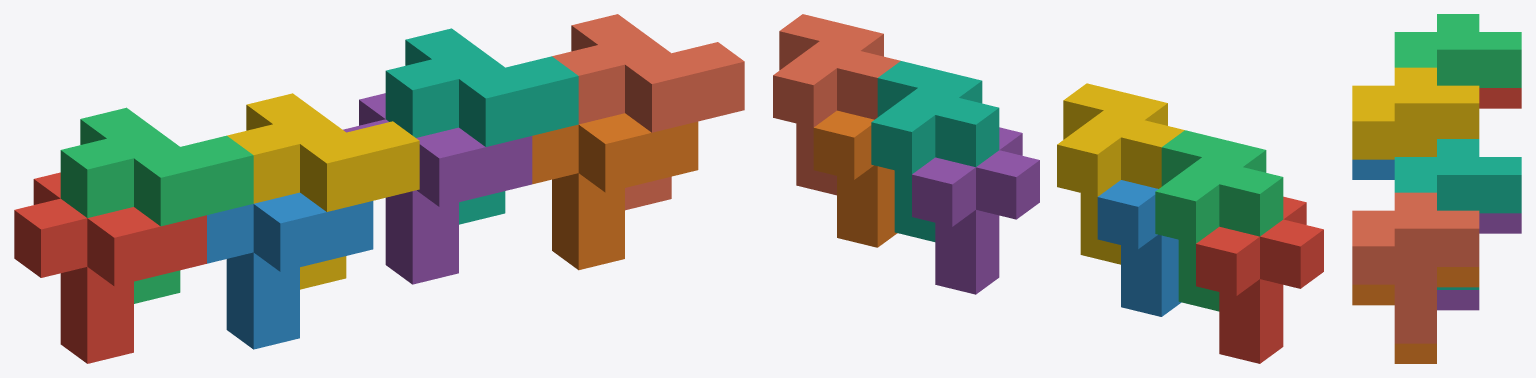
Rendered from tiling.obj.
3 renders of one model, left to right at view 1: azimuth 30°, elevation 25°; view 2: azimuth 150°, elevation 25°; view 3: azimuth 270°, elevation 25°, orthographic. The views are drawn at different scales.
Visible parts, largest first — view 1: copy_1_domain_1, copy_1_domain_3, copy_1_domain_7, copy_1_domain_8, copy_1_domain_4, copy_1_domain_2, copy_1_domain_6, copy_1_domain_5; view 2: copy_1_domain_3, copy_1_domain_7, copy_1_domain_5, copy_1_domain_1, copy_1_domain_4, copy_1_domain_8, copy_1_domain_2, copy_1_domain_6; view 3: copy_1_domain_8, copy_1_domain_4, copy_1_domain_7, copy_1_domain_3, copy_1_domain_6, copy_1_domain_5, copy_1_domain_1, copy_1_domain_2.
Boxes of the visible parts, box(x1,y1,x2,y2) form: copy_1_domain_1: box(14, 172, 206, 363); copy_1_domain_3: box(60, 107, 253, 303); copy_1_domain_7: box(385, 28, 578, 224); copy_1_domain_8: box(552, 14, 744, 210); copy_1_domain_4: box(227, 93, 419, 289); copy_1_domain_2: box(207, 192, 373, 349); copy_1_domain_6: box(532, 113, 698, 270); copy_1_domain_5: box(343, 93, 532, 284); copy_1_domain_3: box(1155, 130, 1283, 311); copy_1_domain_7: box(871, 61, 999, 241); copy_1_domain_5: box(912, 127, 1039, 294); copy_1_domain_1: box(1196, 196, 1323, 363); copy_1_domain_4: box(1057, 83, 1184, 264); copy_1_domain_8: box(773, 14, 900, 195); copy_1_domain_2: box(1097, 180, 1181, 316); copy_1_domain_6: box(813, 110, 897, 247); copy_1_domain_8: box(1352, 192, 1479, 343); copy_1_domain_4: box(1352, 67, 1479, 159); copy_1_domain_7: box(1394, 139, 1521, 289); copy_1_domain_3: box(1394, 14, 1521, 87); copy_1_domain_6: box(1352, 267, 1479, 363); copy_1_domain_5: box(1437, 213, 1521, 310); copy_1_domain_1: box(1479, 88, 1521, 108); copy_1_domain_2: box(1352, 159, 1394, 179).
Bounding box in the file's own units: 14 × 4 × 4.
